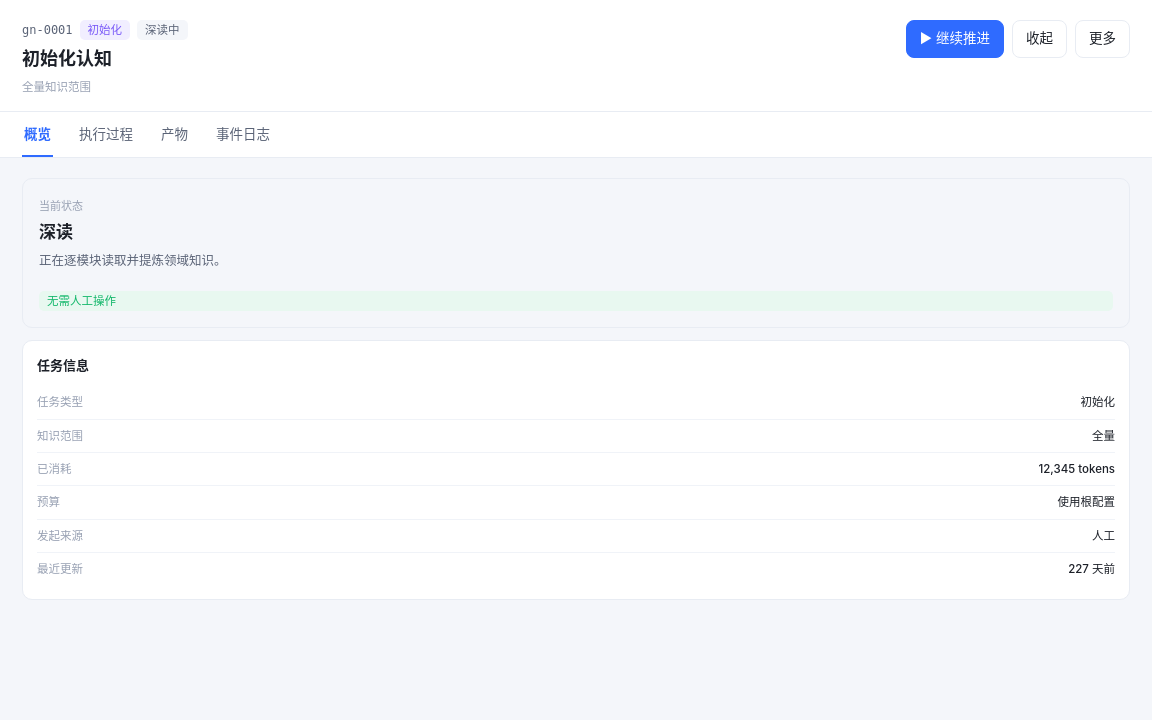
GenomeTaskDetail › shows each module's status and why a failed one failed
This screenshot has width=1152, height=720.
Click the tab "执行过程". click: (106, 134)
box: [77,112,135,157]
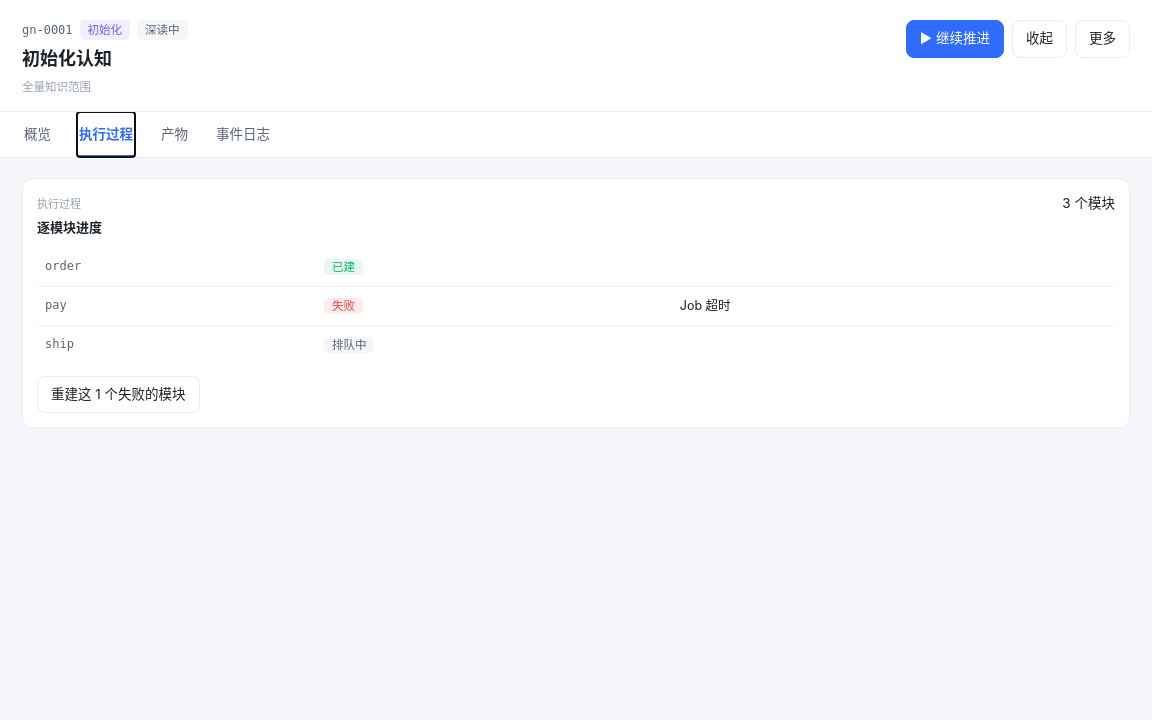
Result: the text "Job 超时" is shown at [672,286,1029,325]
Result: the text "排队中" is shown at [324,337,374,353]
